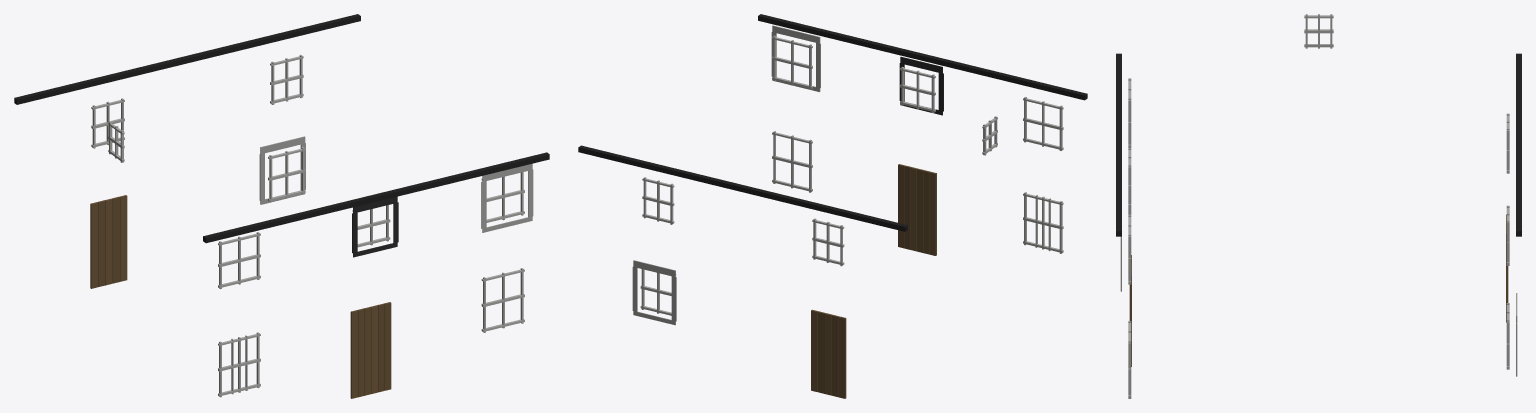
The model's file is SM_Bld_097_Wood.glb.
3 renders of one model, left to right at view 1: azimuth 30°, elevation 25°; view 2: azimuth 150°, elevation 25°; view 3: azimuth 270°, elevation 25°, orthographic. The views are drawn at different scales.
Parts seen in each view (by area): view 1: SM_Bld_097_Wood; view 2: SM_Bld_097_Wood; view 3: SM_Bld_097_Wood.
Boxes of the visible parts, box(x1,y1,x2,y2) form: SM_Bld_097_Wood: box(14, 14, 549, 398); SM_Bld_097_Wood: box(578, 14, 1087, 398); SM_Bld_097_Wood: box(1116, 14, 1521, 398).
Bounding box in the file's own units: 8.53 × 5.75 × 8.24.
